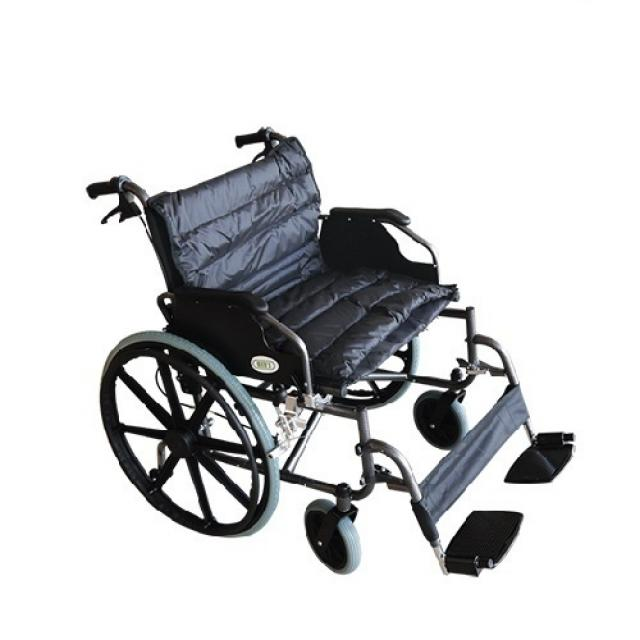wheelchair: (76, 115, 597, 585)
